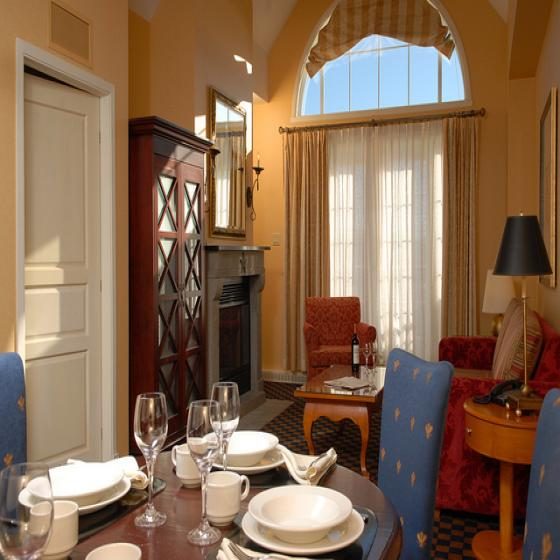bottle: (351, 320, 360, 372)
bowl: (249, 484, 353, 542), (26, 461, 125, 508), (27, 500, 80, 554), (226, 429, 278, 465)
chair: (435, 298, 560, 516), (377, 349, 453, 560), (472, 389, 560, 553), (303, 296, 376, 381), (1, 350, 30, 506)
couch: (434, 300, 560, 528), (303, 296, 377, 380)
cup: (206, 471, 250, 527), (41, 499, 82, 559), (170, 442, 202, 490)
dining table: (135, 454, 401, 560), (75, 452, 342, 556), (346, 474, 401, 552)
fork: (228, 543, 287, 560), (299, 452, 327, 471)
wine glass: (0, 461, 55, 560), (188, 402, 222, 547), (134, 392, 169, 529), (209, 381, 241, 471), (363, 343, 378, 373)
